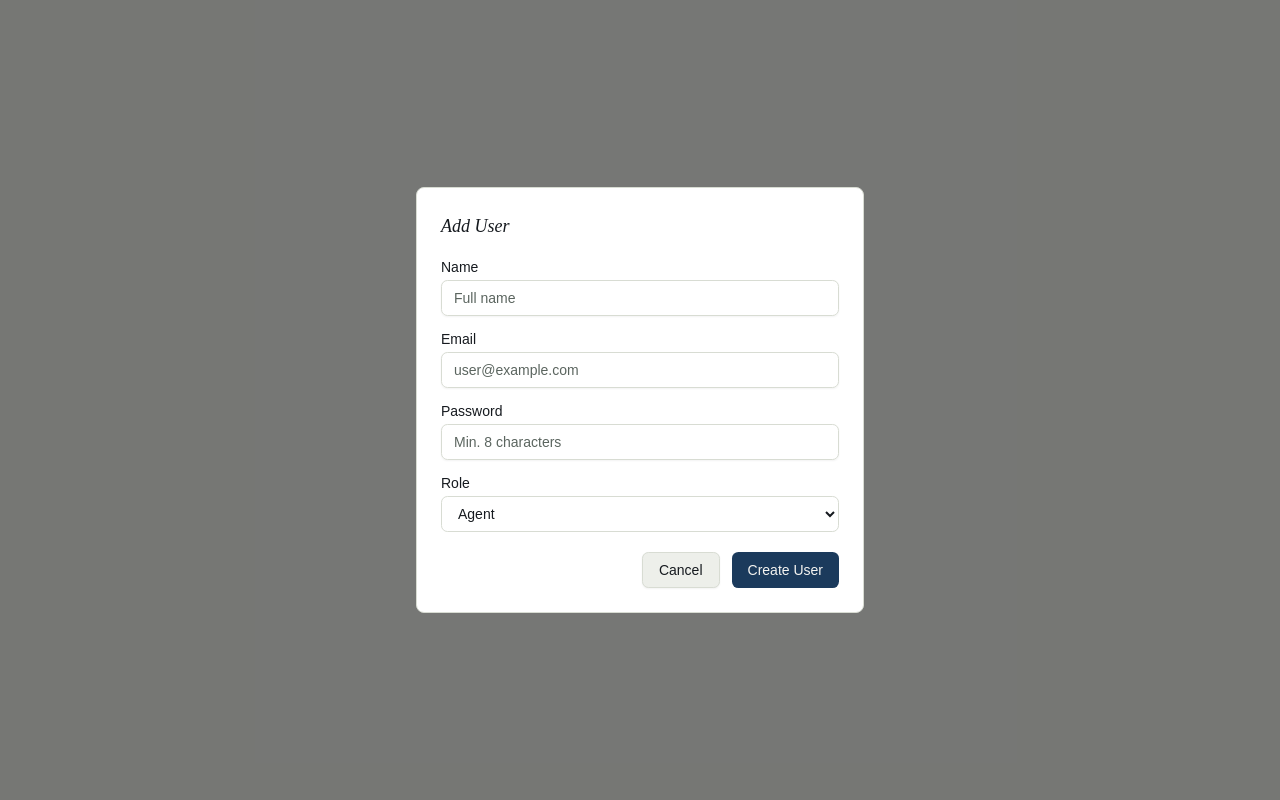
Scenario: CreateUserModal › shows required errors for all fields on empty submit
Click the button "Create User".
click(785, 570)  # box 732,552 -> 839,588
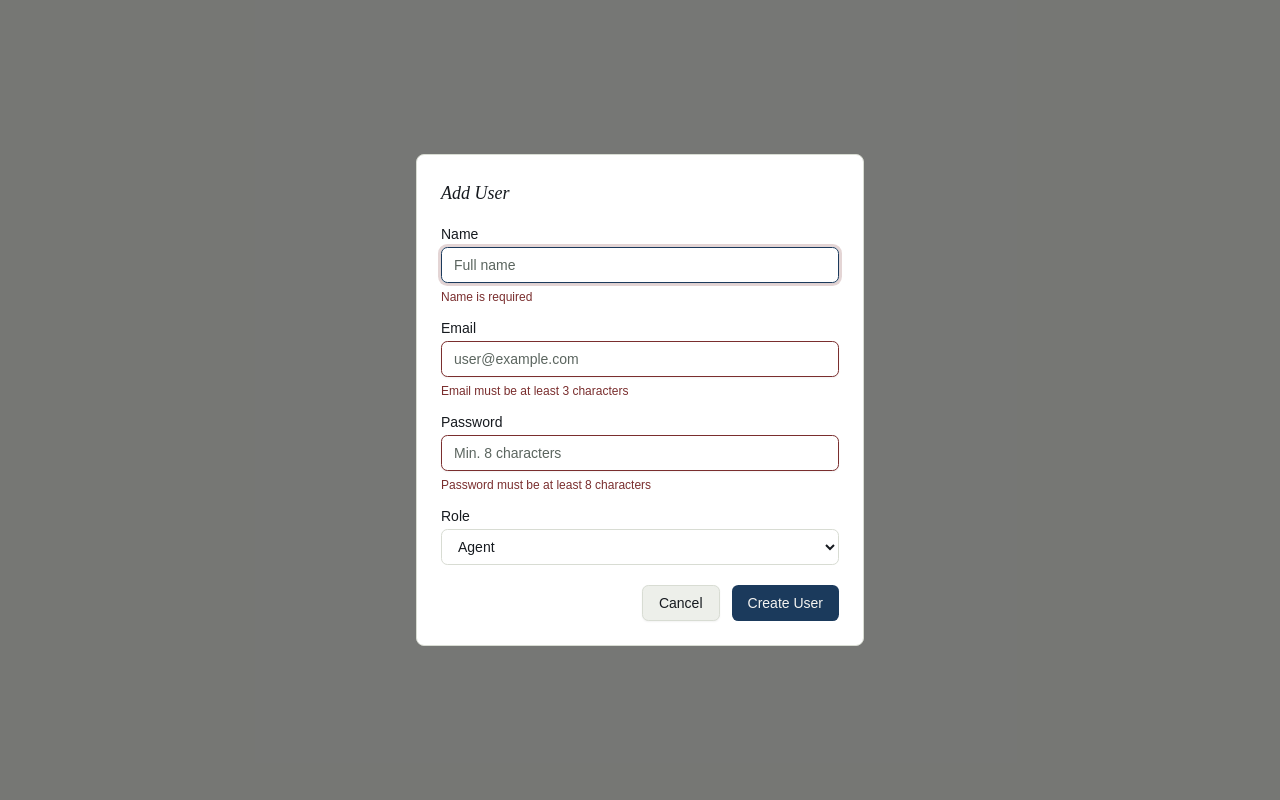
Now the text "Name is required" is shown, box 441,290 -> 532,304
Now the text "Email must be at least 3 characters" is shown, box 441,384 -> 628,398
Now the text "Password must be at least 8 characters" is shown, box 441,478 -> 651,492
